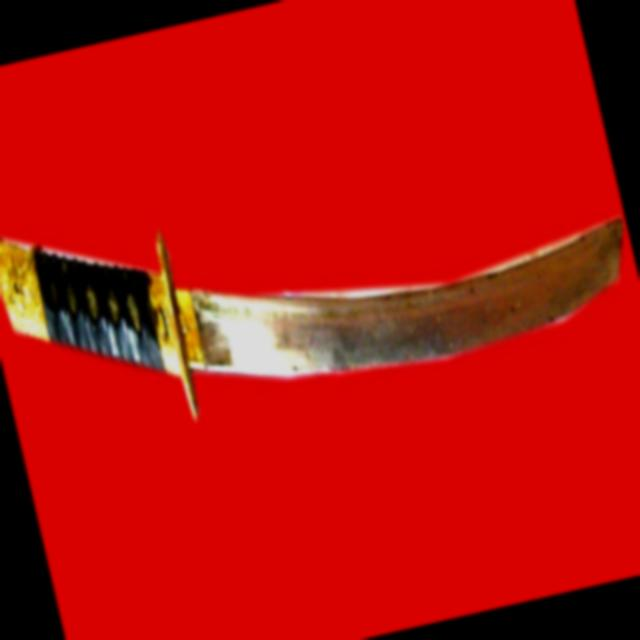long sword: (0, 64, 640, 456)
